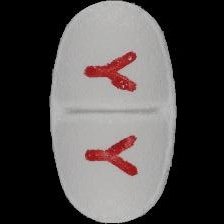54868-5829: (0, 0, 224, 224)
